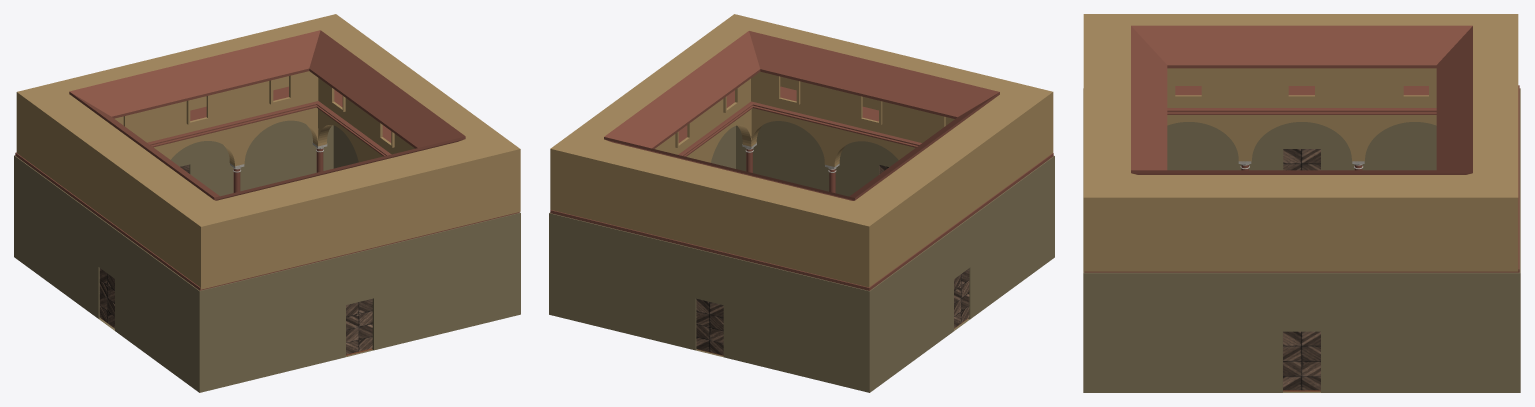
Rendered from Interior_SpanishCourtyard.glb.
3 renders of one model, left to right at view 1: azimuth 30°, elevation 25°; view 2: azimuth 150°, elevation 25°; view 3: azimuth 270°, elevation 25°, orthographic. The views are drawn at different scales.
Parts seen in each view (by area): view 1: Cube.043, Cube.013, Cube.011, Cube.010, Cylinder.004, Cube.045, Cube.030; view 2: Cube.043, Cube.013, Cube.011, Cube.010, Cylinder.004, Cube.044, Cube.030; view 3: Cube.043, Cube.013, Cube.011, Cylinder.004, Cube.010, Cube.029, Cube.030.
Part boxes in pixels (bbox=[...]): Cube.043: bbox=[16, 14, 520, 289]; Cube.013: bbox=[14, 120, 520, 392]; Cube.011: bbox=[69, 30, 465, 200]; Cube.010: bbox=[15, 86, 519, 290]; Cylinder.004: bbox=[154, 107, 382, 166]; Cube.045: bbox=[346, 298, 372, 354]; Cube.030: bbox=[99, 268, 114, 327]; Cube.043: bbox=[550, 14, 1053, 287]; Cube.013: bbox=[549, 121, 1054, 392]; Cube.011: bbox=[604, 31, 999, 200]; Cube.010: bbox=[550, 86, 1053, 290]; Cylinder.004: bbox=[686, 108, 915, 166]; Cube.044: bbox=[696, 298, 723, 355]; Cube.030: bbox=[954, 268, 969, 328]; Cube.043: bbox=[1083, 14, 1518, 271]; Cube.013: bbox=[1083, 88, 1520, 392]; Cube.011: bbox=[1131, 25, 1472, 174]; Cylinder.004: bbox=[1167, 115, 1436, 161]; Cube.010: bbox=[1084, 85, 1519, 272]; Cube.029: bbox=[1283, 331, 1320, 390]; Cube.030: bbox=[1283, 149, 1320, 170].
Size of the model in its own units: 57.11 by 29.86 by 57.11.
23 materials, 17 textured.
